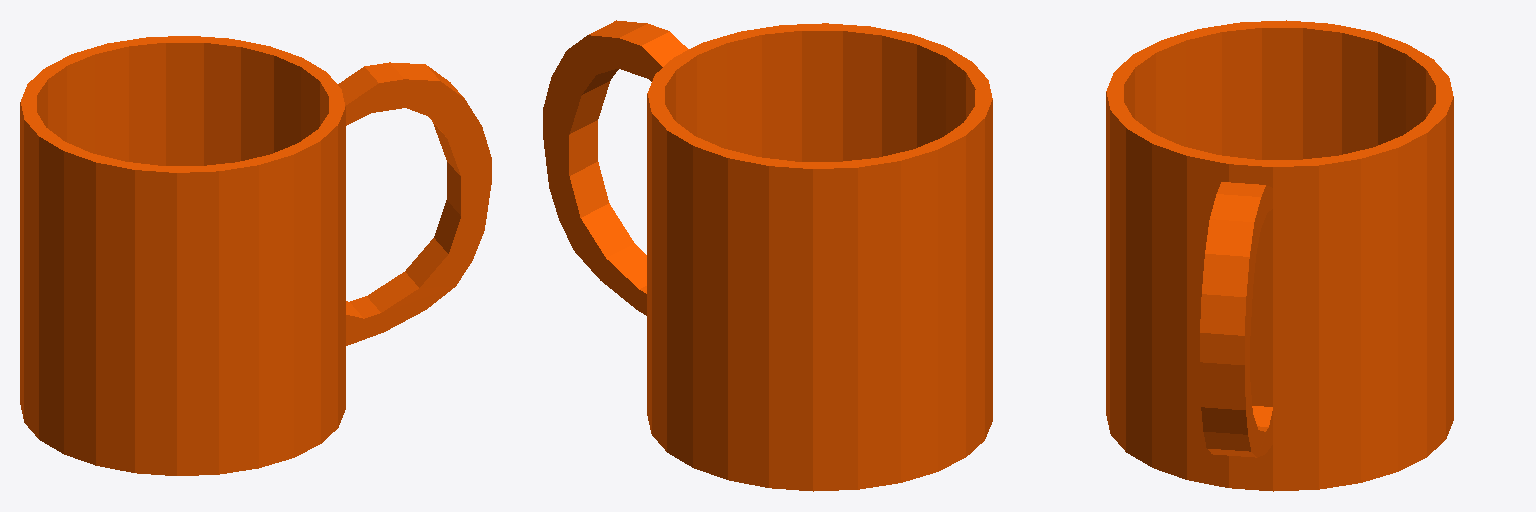
robot.urdf — Mug_40f9a6cc6b2c3b3a78060a3a3a55e18f_handle:
<?xml version="1.0" ?>
<robot name="Mug_40f9a6cc6b2c3b3a78060a3a3a55e18f_handle">
   <material name="obj_color">
      <color rgba="1.0 0.423529411765 0.0392156862745 1.0"/>
   </material>
   <link name="top">
      <inertial>
         <origin rpy="4.588411974223787e-06 1.289367021335901e-05 1.677945905191372e-05" xyz="0.05626780724614804 -0.009541338867130603 0.01121929214270048"/>
         <mass value="0.03159637479775722"/>
         <inertia ixx="1.296542731277289e-05" ixy="6.458764013886007e-07" ixz="-5.477056311454774e-07" iyy="1.667007085231354e-05" iyz="1.057931286627159e-07" izz="4.626043074410093e-06"/>
      </inertial>
      <visual>
         <origin rpy="0 0 0" xyz="0 0 0"/>
         <geometry>
            <mesh filename="top_watertight_tiny.stl" scale="1 1 1"/>
         </geometry>
         <material name="obj_color"/>
      </visual>
      <collision>
         <origin rpy="0 0 0" xyz="0 0 0"/>
         <geometry>
            <mesh filename="top_watertight_tiny.obj" scale="1 1 1"/>
         </geometry>
      </collision>
   </link>
   <link name="bottom">
      <inertial>
         <origin rpy="0.0005259960231229985 0.0006383760858421397 0.0006383769945803076" xyz="-0.005933033406736727 0.001092981401813445 0.002409000054876492"/>
         <mass value="0.5431014043868299"/>
         <inertia ixx="0.0006383762996239208" ixy="-3.854465127601376e-10" ixz="-1.228864826589251e-12" iyy="0.0006383767807985264" iyz="-4.478815795104786e-13" izz="0.0005259960231229986"/>
      </inertial>
      <visual>
         <origin rpy="0 0 0" xyz="0 0 0"/>
         <geometry>
            <mesh filename="bottom_watertight_tiny.stl" scale="1 1 1"/>
         </geometry>
         <material name="obj_color"/>
      </visual>
      <collision>
         <origin rpy="0 0 0" xyz="0 0 0"/>
         <geometry>
            <mesh filename="bottom_watertight_tiny.obj" scale="1 1 1"/>
         </geometry>
      </collision>
   </link>
   <joint name="rotation" type="revolute">
      <origin xyz="0 0 0"/>
      <axis xyz="0 0 -1"/>
      <parent link="bottom"/>
      <child link="top"/>
      <dynamics damping="1.0" friction="1.0"/>
      <limit effort="0.1" velocity="0.1" lower="0" upper="0.001"/>
   </joint>
</robot>

--- What the picture shows (computed from the rendered views, not written in the file) ---
3 views of the same robot in one strip: view 1: azimuth 30°, elevation 25°; view 2: azimuth 150°, elevation 25°; view 3: azimuth 270°, elevation 25° (orthographic).
Model Mug_40f9a6cc6b2c3b3a78060a3a3a55e18f_handle with 2 links and 1 joints (1 revolute), rooted at bottom, posed all joints at 0.
Visible links, largest first — view 1: bottom, top; view 2: bottom, top; view 3: bottom, top.
Boxes of the visible links, x1=… form: bottom: x1=20, y1=36, x2=345, y2=475; top: x1=338, y1=62, x2=491, y2=345; bottom: x1=647, y1=23, x2=992, y2=491; top: x1=543, y1=20, x2=688, y2=315; bottom: x1=1106, y1=20, x2=1453, y2=491; top: x1=1200, y1=182, x2=1272, y2=457.
Bounding box of the posed robot: 0.1313 × 0.0885 × 0.0911 m (x, y, z).
2 mesh visuals loaded from 2 distinct referenced files (2 binary STL).